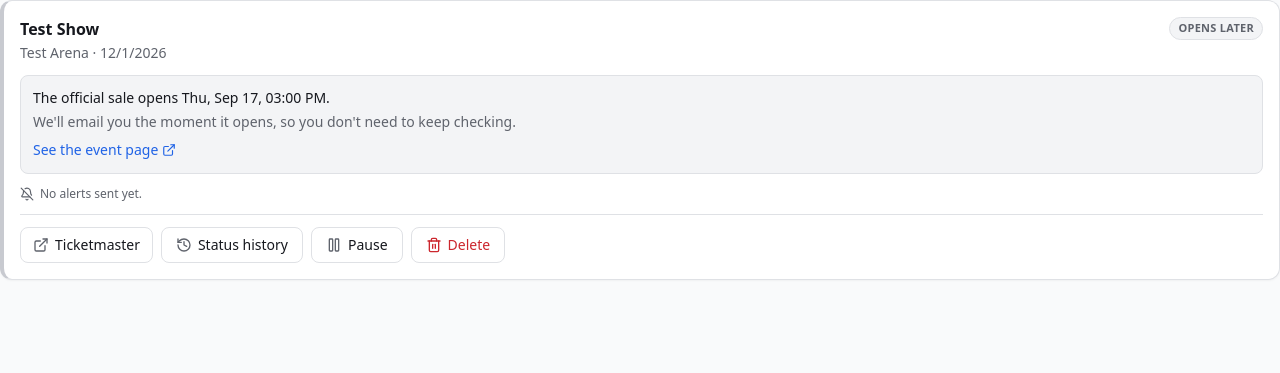
Scenario: WatchCard — status history › renders newest-first with the current state marked
This screenshot has width=1280, height=373.
Click the button "Status history": [232, 245] box left=161, top=227, right=303, bottom=263
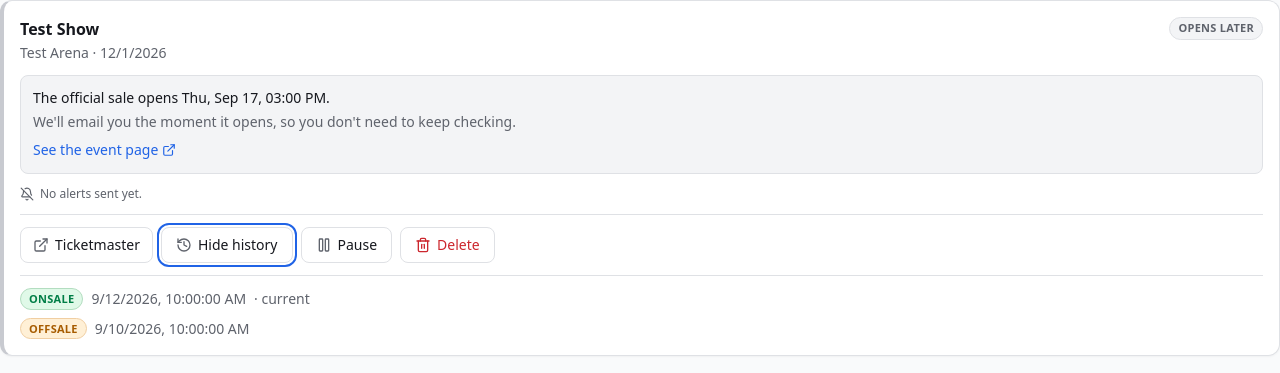
Expected: the number of list items is 2, left=20, top=288, right=310, bottom=310; left=20, top=318, right=250, bottom=339
Expected: the list item "onsale 9/12/2026, 10:00:00 AM · current" is shown, left=20, top=288, right=310, bottom=310
Expected: the list item "offsale 9/10/2026, 10:00:00 AM" is shown, left=20, top=318, right=250, bottom=339
